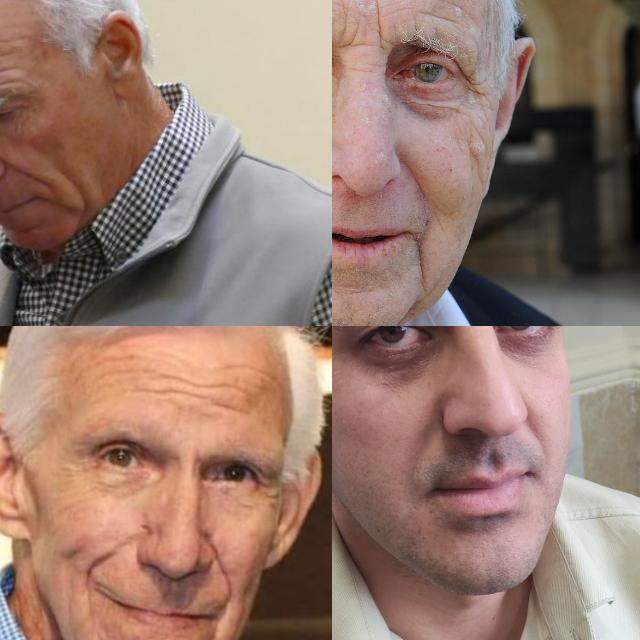crows_feet: (454, 67, 488, 111), (256, 467, 280, 507)
forehead: (219, 359, 259, 421), (156, 367, 214, 409), (100, 347, 146, 383), (0, 27, 22, 46), (0, 54, 11, 86)
frown_line: (338, 12, 390, 54)
gummy_smile: (401, 160, 433, 206), (0, 157, 48, 185), (210, 542, 237, 588), (82, 542, 116, 576)
masseter: (464, 137, 488, 190), (64, 171, 98, 205)
sad_smile: (408, 226, 432, 290)
